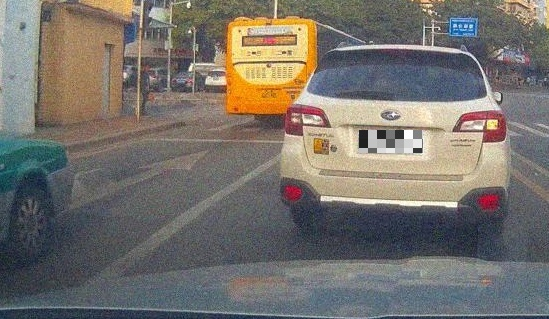L_light: (284, 104, 332, 136)
R_light: (452, 110, 507, 143)
T_light: (381, 49, 412, 54)
day-right: (281, 44, 511, 239)
plate_1: (359, 130, 423, 153)
